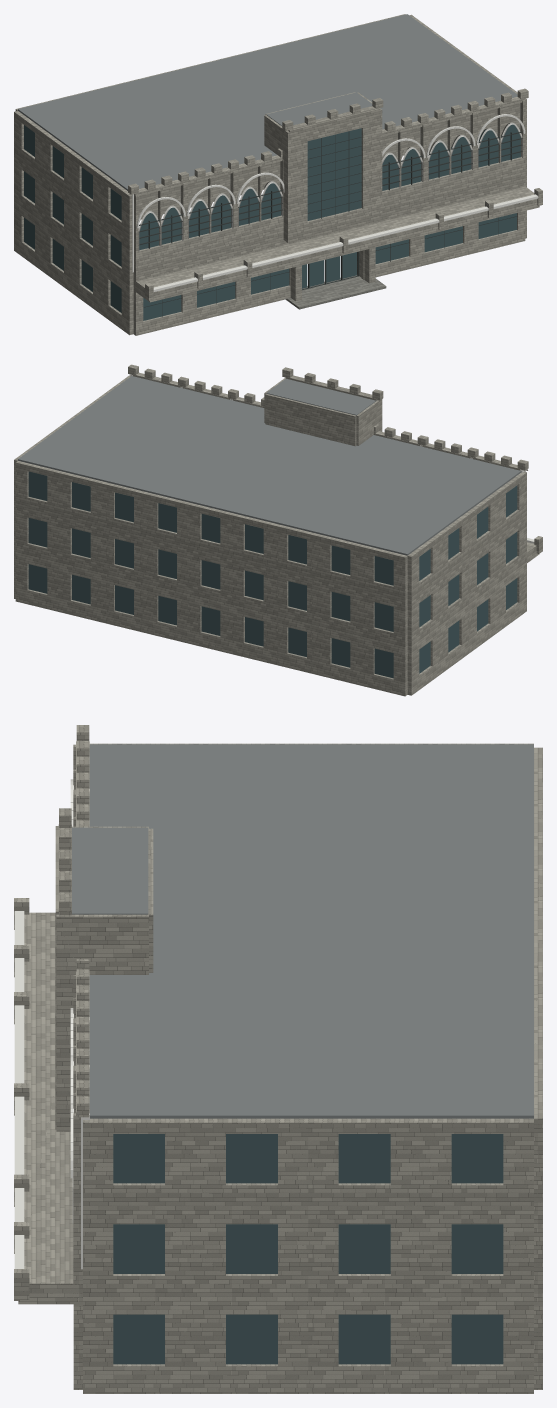
3 views of the same model, one above another, from view 1: azimuth 30°, elevation 25°; view 2: azimuth 150°, elevation 25°; view 3: azimuth 270°, elevation 25° (orthographic). The views are drawn at different scales.
Parts seen in each view (by area): view 1: dongwonLeadership__stone, dongwonLeadership__roof, dongwonLeadership__glass, dongwonLeadership__cream, dongwonLeadership__frame, dongwonLeadership__rough; view 2: dongwonLeadership__stone, dongwonLeadership__roof, dongwonLeadership__glass; view 3: dongwonLeadership__roof, dongwonLeadership__stone, dongwonLeadership__glass, dongwonLeadership__cream.
Boxes of the visible parts, x1,y1,x2,y2 form: dongwonLeadership__stone: (14,14,542,335); dongwonLeadership__roof: (18,14,517,190); dongwonLeadership__glass: (24,124,520,320); dongwonLeadership__cream: (132,103,538,291); dongwonLeadership__frame: (138,123,522,317); dongwonLeadership__rough: (285,275,386,309); dongwonLeadership__stone: (14,364,542,696); dongwonLeadership__roof: (18,376,521,555); dongwonLeadership__glass: (28,471,517,678); dongwonLeadership__roof: (72,744,533,1118); dongwonLeadership__stone: (14,725,542,1393); dongwonLeadership__glass: (113,1134,503,1364); dongwonLeadership__cream: (14,741,89,1269).
Size of the model in its own units: 41.28 by 17.8 by 24.21.
Materials: 6 (2 with a texture image).
